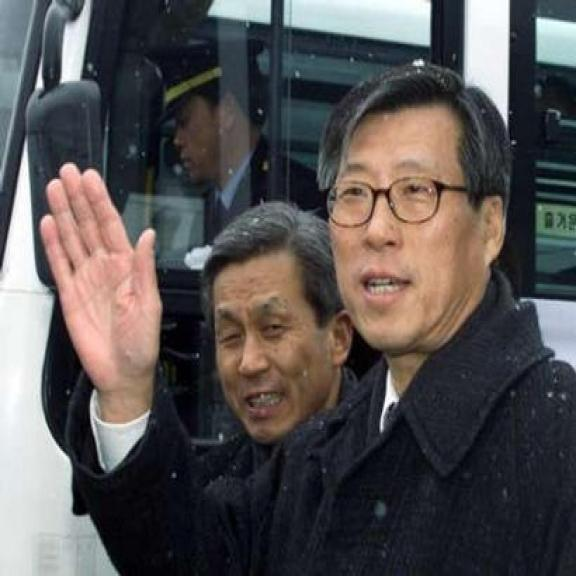face: (326, 82, 507, 356), (204, 236, 356, 447), (166, 79, 243, 187)
